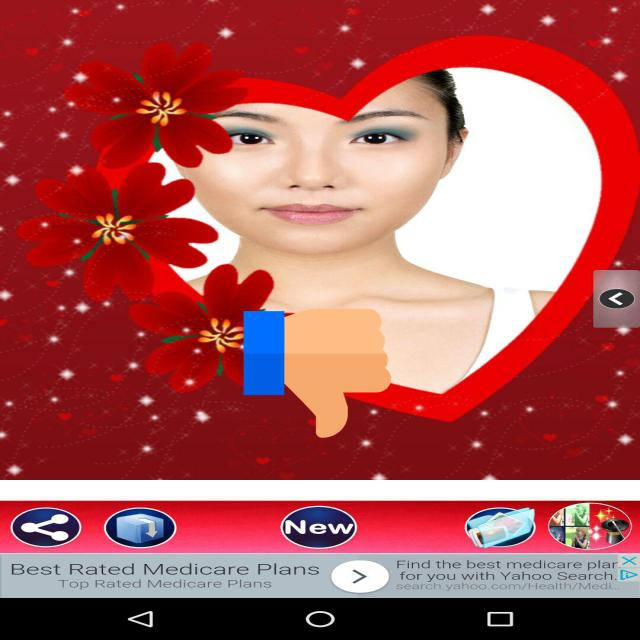obstruction: (244, 305, 391, 441)
